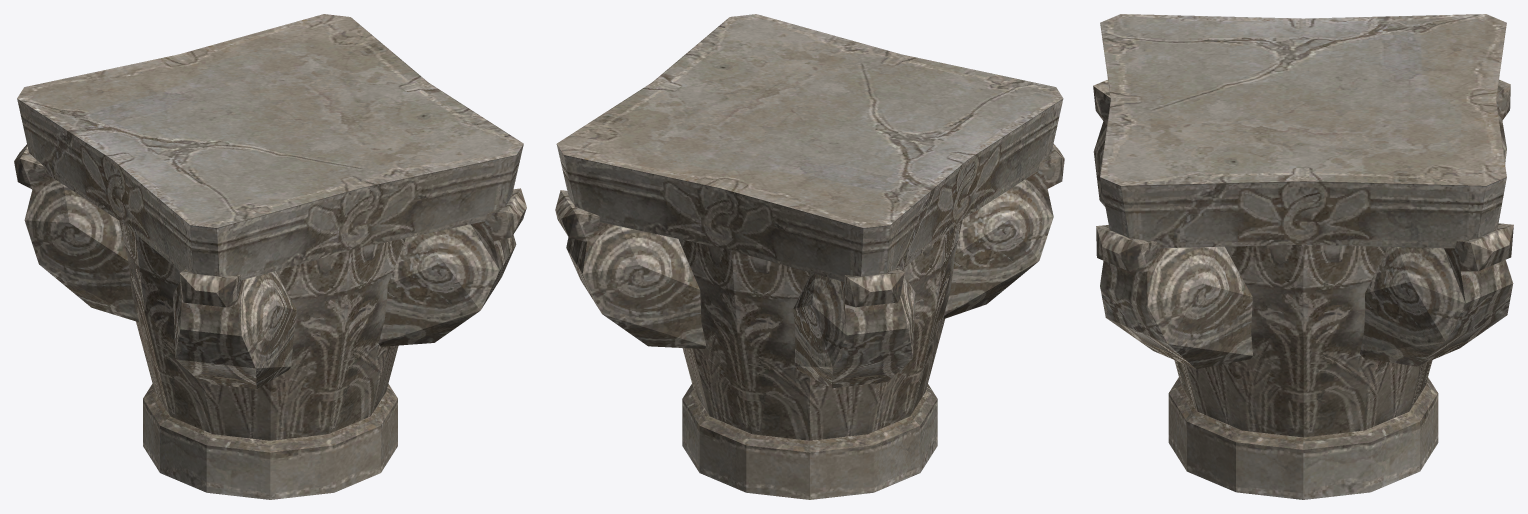
File: bg_lut_lutomb_pillar06_sm_old.FBX
The picture shows the model from 3 angles, left to right: view 1: azimuth 30°, elevation 25°; view 2: azimuth 150°, elevation 25°; view 3: azimuth 270°, elevation 25°; orthographic projection. The views are drawn at different scales.
Visible parts, largest first — view 1: bg_lut_lutomb_pillar06_sm_old; view 2: bg_lut_lutomb_pillar06_sm_old; view 3: bg_lut_lutomb_pillar06_sm_old.
Part boxes in pixels (x1=…): bg_lut_lutomb_pillar06_sm_old: x1=14, y1=14, x2=526, y2=499; bg_lut_lutomb_pillar06_sm_old: x1=555, y1=14, x2=1064, y2=499; bg_lut_lutomb_pillar06_sm_old: x1=1093, y1=14, x2=1513, y2=499.
Size of the model in its own units: 213 by 192 by 213.
